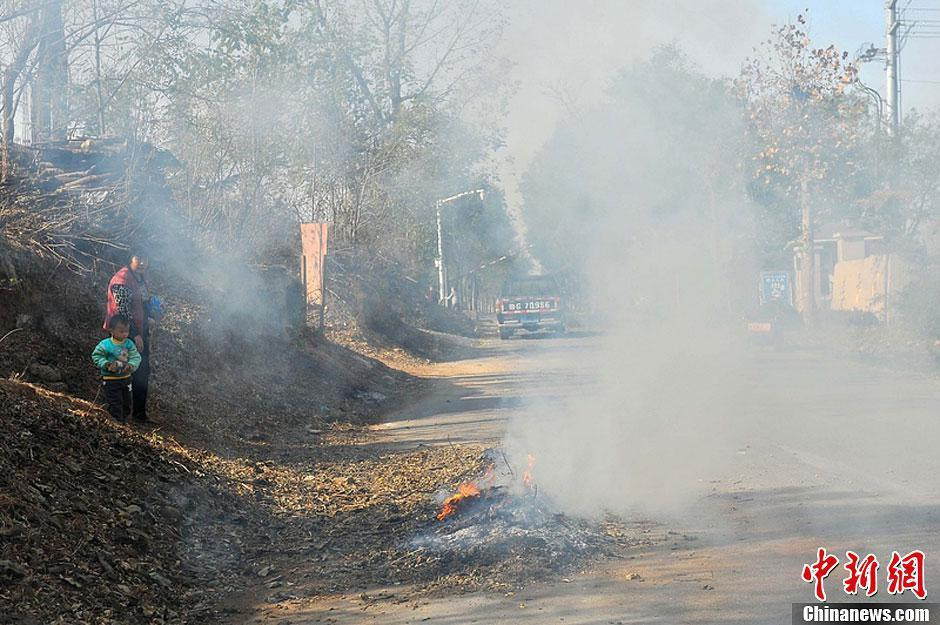fire: (428, 464, 504, 521), (521, 447, 545, 497)
